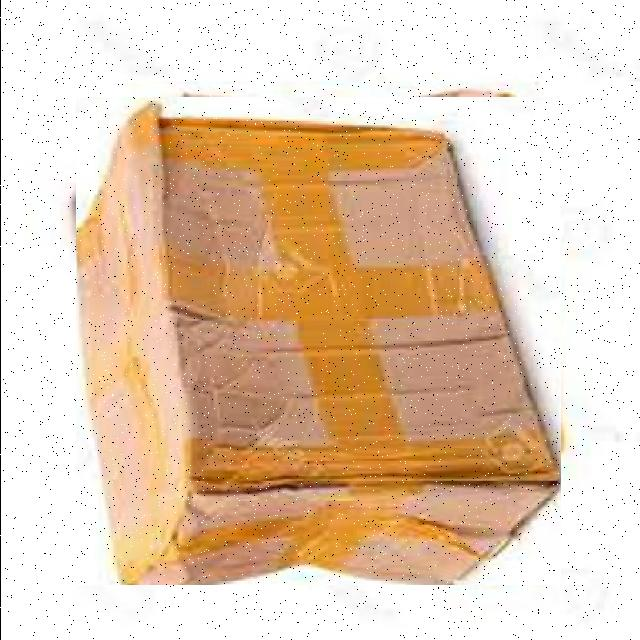normal: (75, 97, 560, 585)
